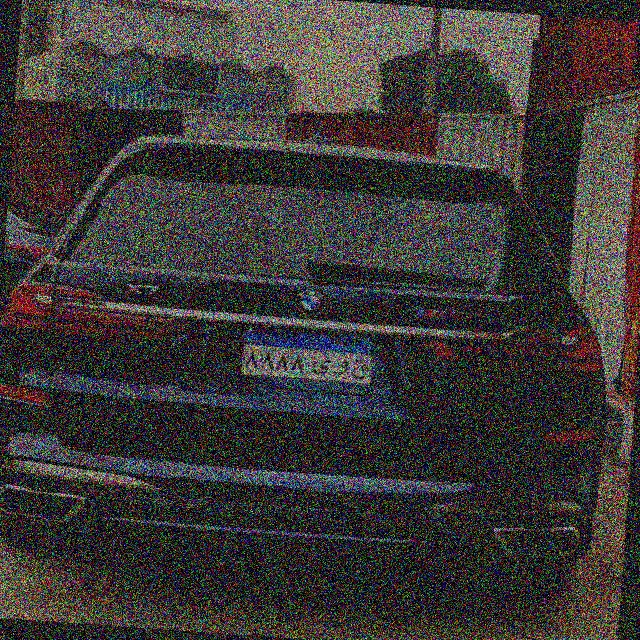License Plate: (240, 326, 377, 386)
